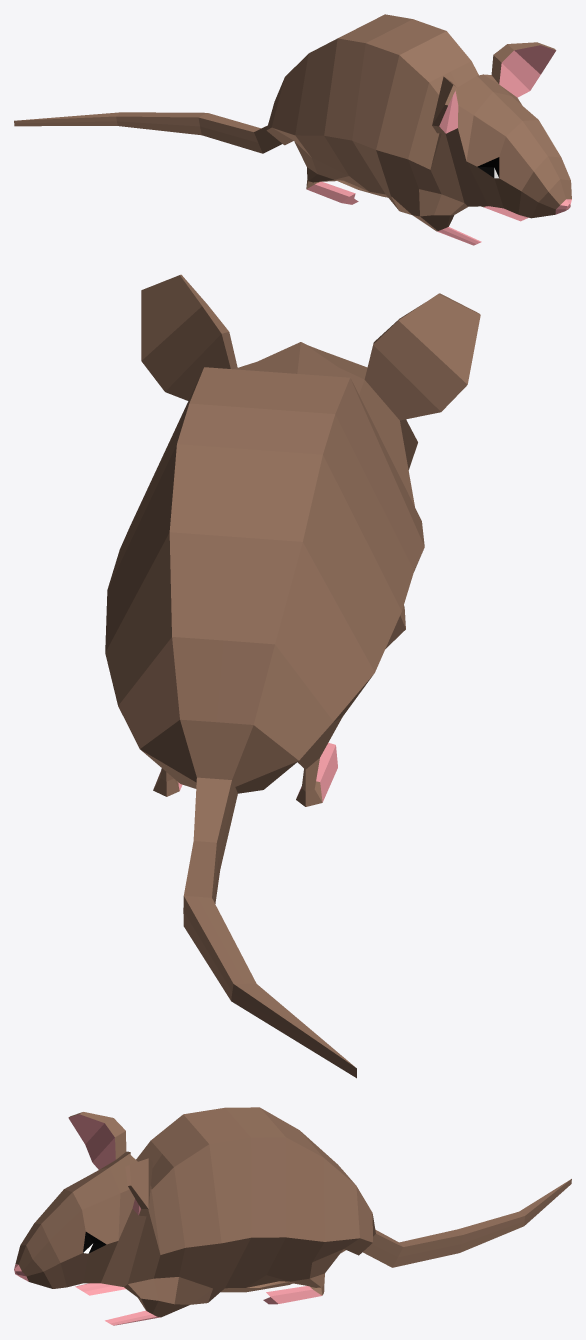
Rendered from mouse_lowpoly.fbx.
The picture shows the model from 3 angles, top to bottom: view 1: azimuth 30°, elevation 25°; view 2: azimuth 150°, elevation 25°; view 3: azimuth 270°, elevation 25°; orthographic projection. The views are drawn at different scales.
Parts seen in each view (by area): view 1: Cube, Cube.001; view 2: Cube; view 3: Cube, Cube.001.
Boxes of the visible parts, box(x1,y1,x2,y2) form: Cube: box(14, 14, 571, 231); Cube.001: box(306, 45, 571, 245); Cube: box(105, 274, 480, 1078); Cube: box(15, 1107, 571, 1317); Cube.001: box(14, 1114, 321, 1325).
Size of the model in its own units: 491 by 250 by 720.
